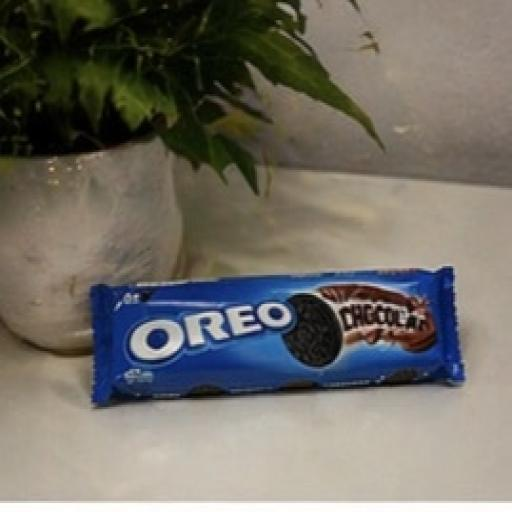oreo: (50, 230, 499, 454)
